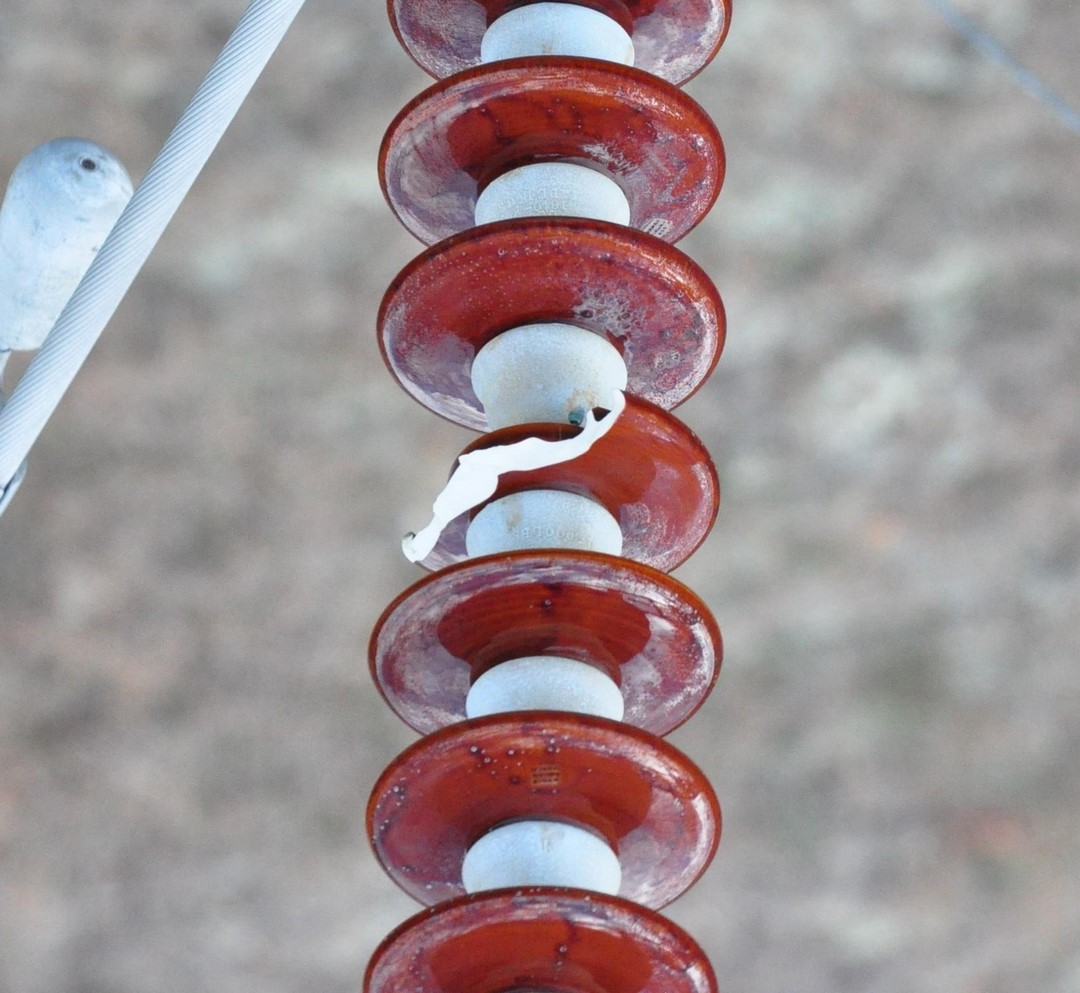insulator breakage: (381, 389, 735, 575)
